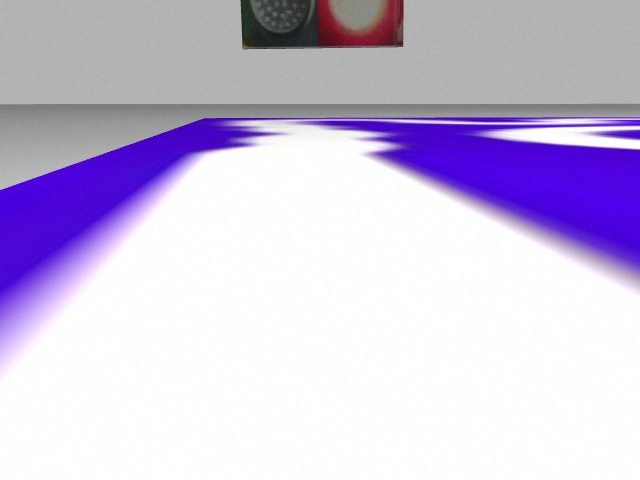red: (319, 1, 406, 46)
